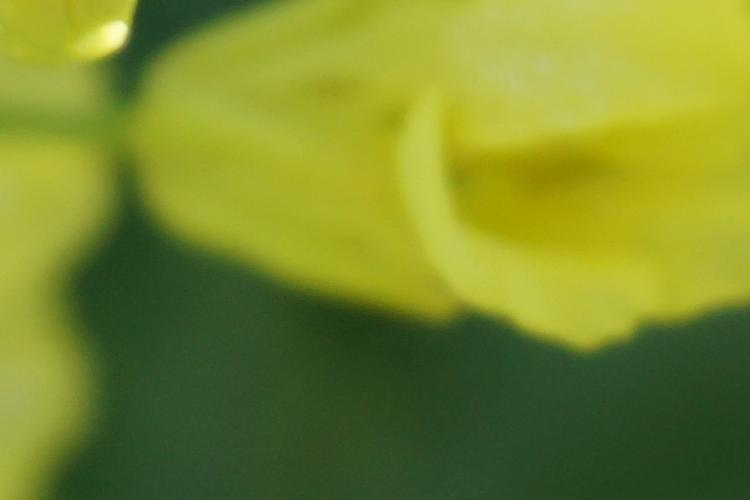yellow: (140, 43, 750, 334)
